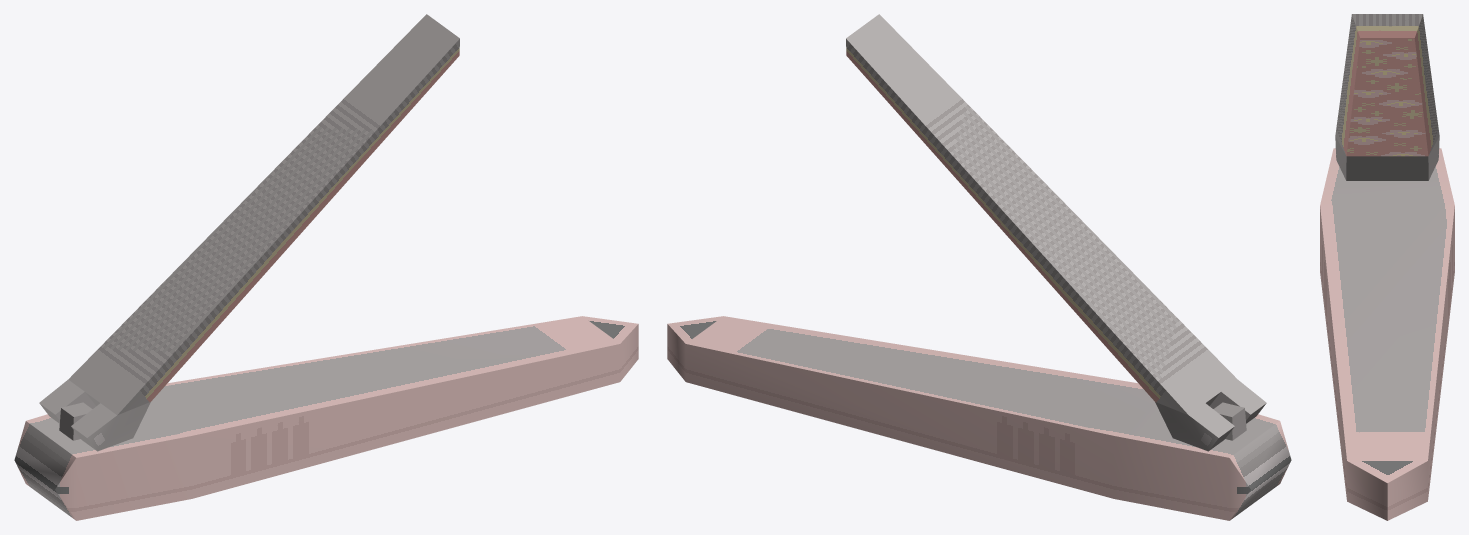
Rendered from 03eb_Nail_Clipper.glb.
3 renders of one model, left to right at view 1: azimuth 30°, elevation 25°; view 2: azimuth 150°, elevation 25°; view 3: azimuth 270°, elevation 25°, orthographic. The views are drawn at different scales.
Visible parts, largest first — view 1: part_0; view 2: part_0; view 3: part_0.
Boxes of the visible parts, x1=… form: part_0: x1=14, y1=14, x2=638, y2=520; part_0: x1=667, y1=14, x2=1291, y2=520; part_0: x1=1320, y1=14, x2=1454, y2=520.
Bounding box in the file's own units: 0.1102 × 0.0675 × 0.02.
1 material, 1 textured.
